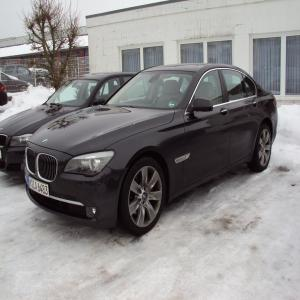Vehicle-registration-plate: (27, 176, 48, 197)
